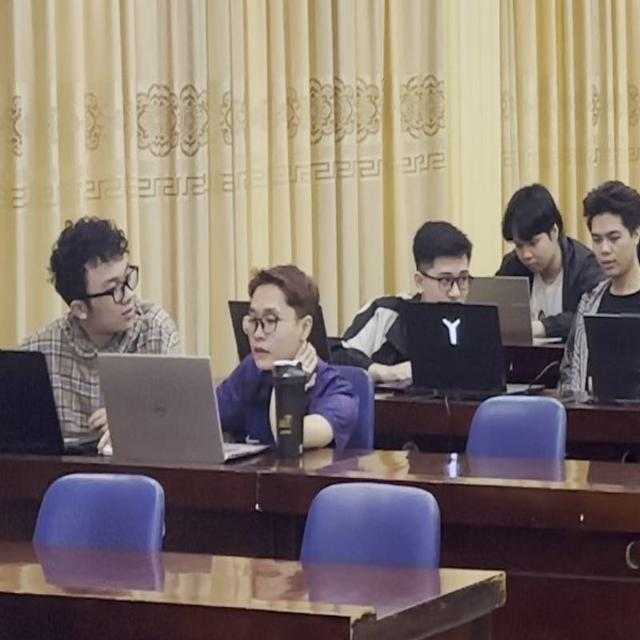Looking away: (47, 217, 152, 344), (236, 248, 322, 370), (496, 185, 571, 289), (576, 177, 640, 290), (410, 208, 469, 320)
